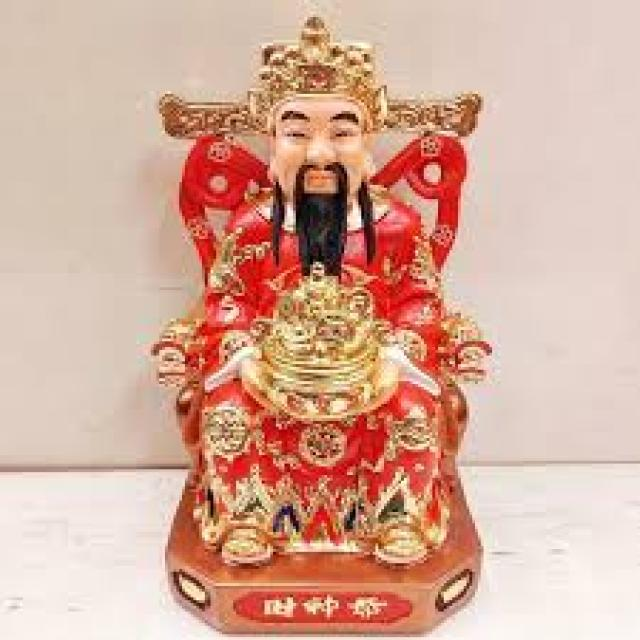Cai shen: (168, 11, 450, 514)
